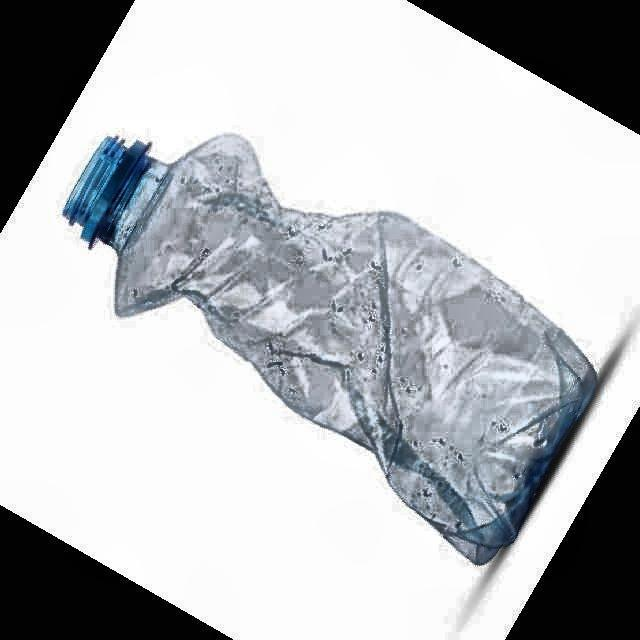plastic: (64, 136, 596, 564)
